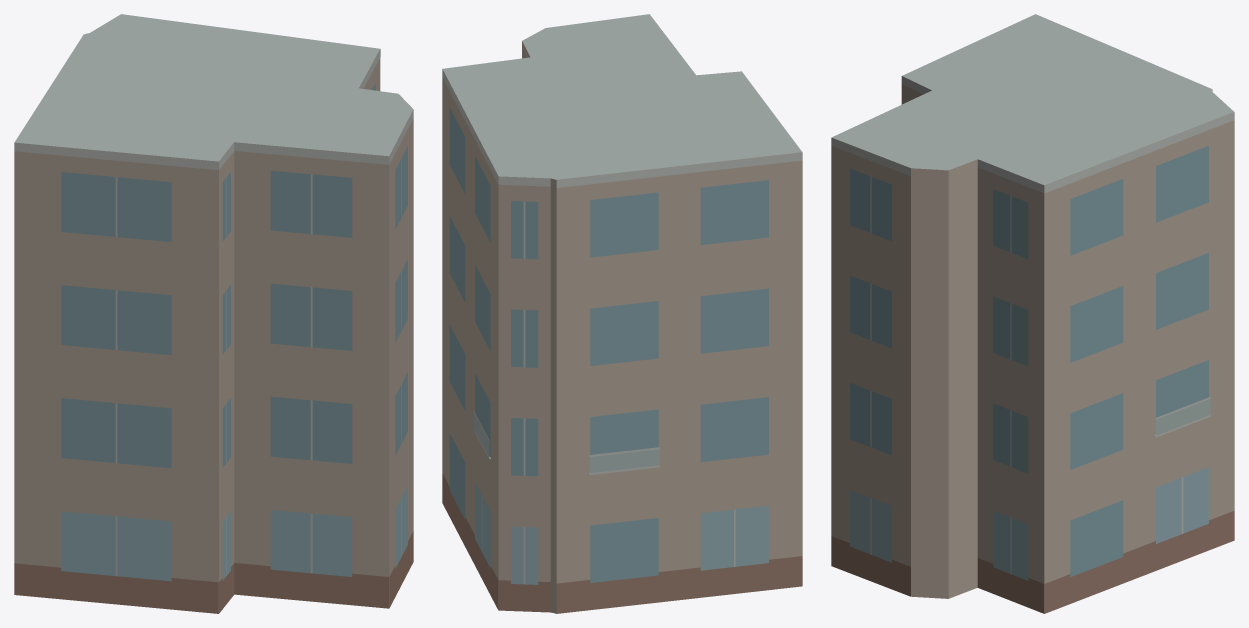
Rendered from survey-upis-32464691.glb.
3 renders of one model, left to right at view 1: azimuth 30°, elevation 25°; view 2: azimuth 150°, elevation 25°; view 3: azimuth 270°, elevation 25°, orthographic. The views are drawn at different scales.
Visible parts, largest first — view 1: survey-upis-32464691.tmp; view 2: survey-upis-32464691.tmp; view 3: survey-upis-32464691.tmp.
Part boxes in pixels (<box>): survey-upis-32464691.tmp: <box>14,14,413,613</box>; survey-upis-32464691.tmp: <box>442,14,802,613</box>; survey-upis-32464691.tmp: <box>831,14,1234,613</box>.
Bounding box in the file's own units: 10.98 × 12.8 × 10.92.
